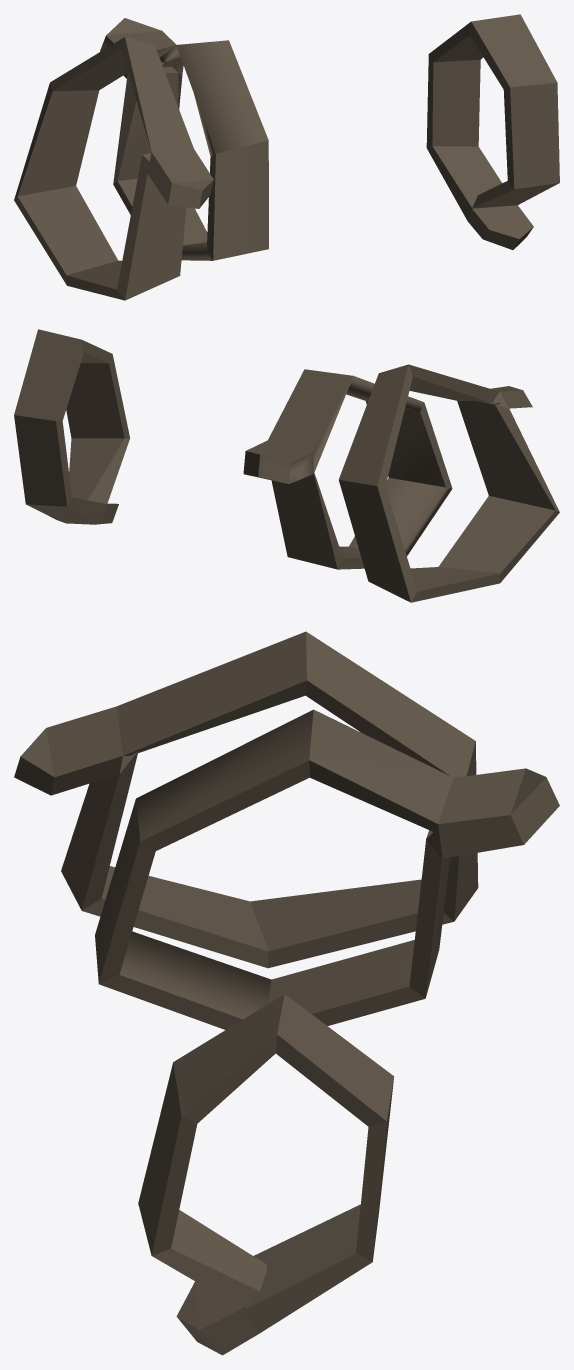
File: Chr_ArmUpperLeft_Female_03_Drop.fbx
3 views of the same model, one above another, from view 1: azimuth 30°, elevation 25°; view 2: azimuth 150°, elevation 25°; view 3: azimuth 270°, elevation 25° (orthographic). The views are drawn at different scales.
Visible parts, largest first — view 1: Chr_ArmUpperLeft_Female_03_Static; view 2: Chr_ArmUpperLeft_Female_03_Static; view 3: Chr_ArmUpperLeft_Female_03_Static.
Boxes of the visible parts, x1,y1,x2,y2 form: Chr_ArmUpperLeft_Female_03_Static: (14, 14, 559, 300); Chr_ArmUpperLeft_Female_03_Static: (14, 329, 559, 602); Chr_ArmUpperLeft_Female_03_Static: (14, 631, 559, 1355).
Bounding box in the file's own units: 27.48 × 15.27 × 17.32.
